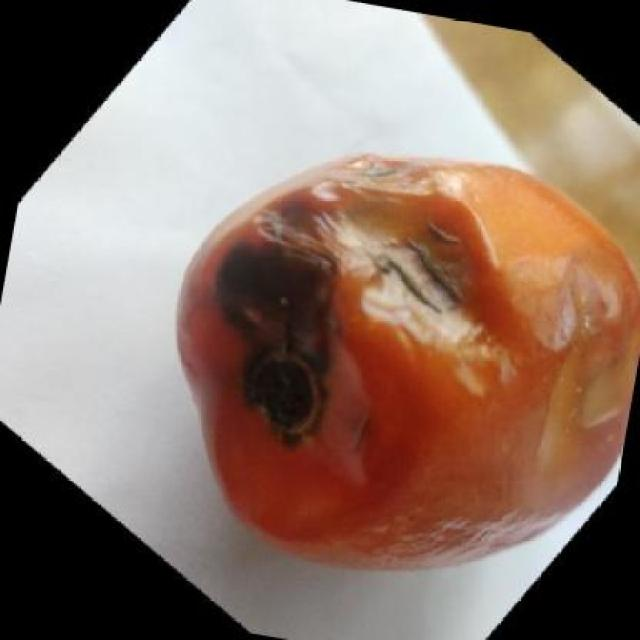overripe tomato: (162, 142, 639, 582)
